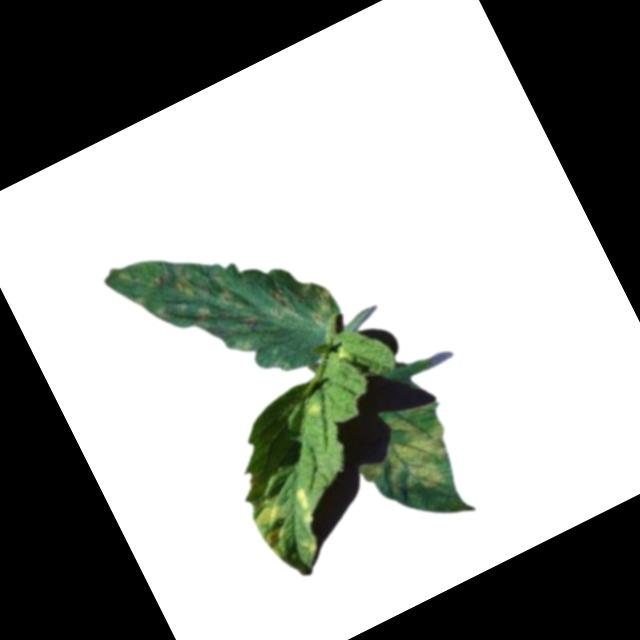Leaf_Mold: (344, 398, 469, 518), (248, 494, 309, 563), (298, 279, 346, 330), (208, 269, 248, 318), (166, 257, 205, 304), (263, 282, 303, 327), (289, 482, 321, 524), (303, 398, 326, 423), (192, 302, 215, 327)
